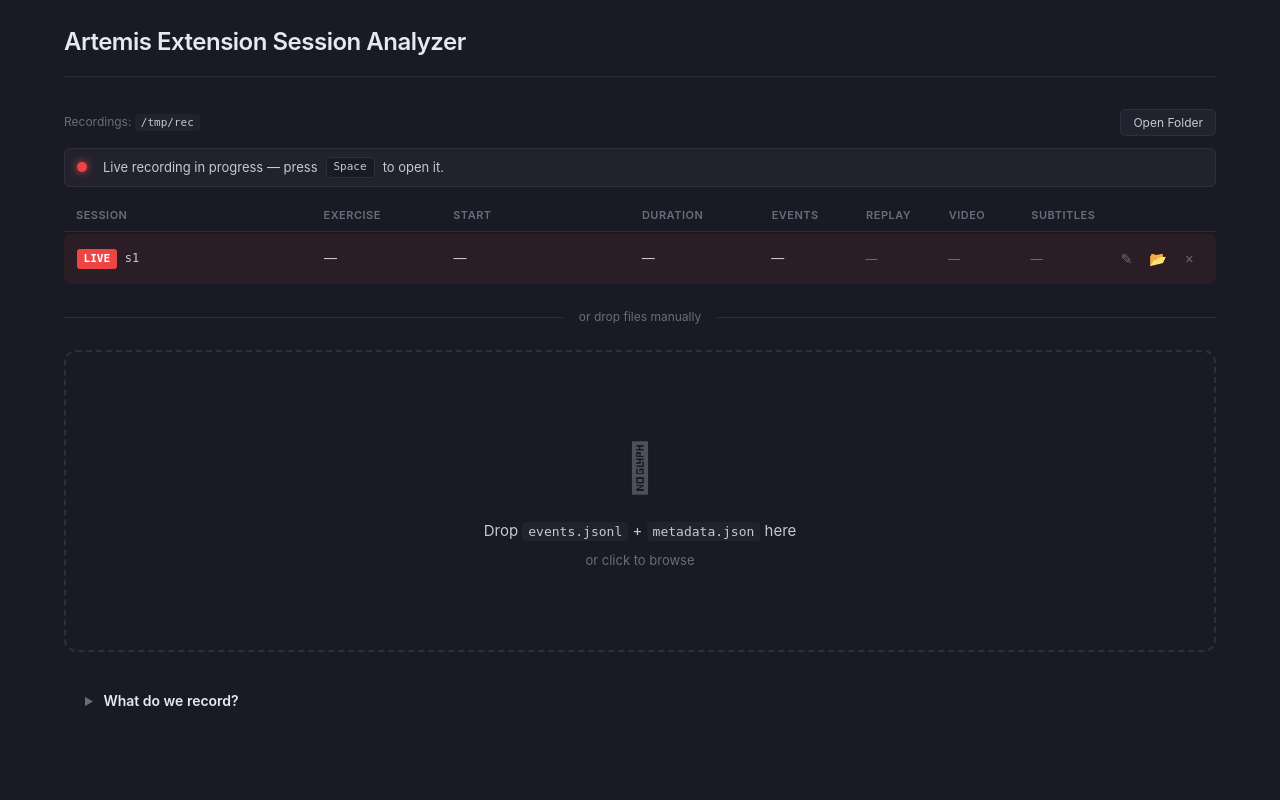
Scenario: App session transitions › opening a live session streams it and shows the live bar
Click the text "s1" at (640, 259), box 64,234 -> 1216,284
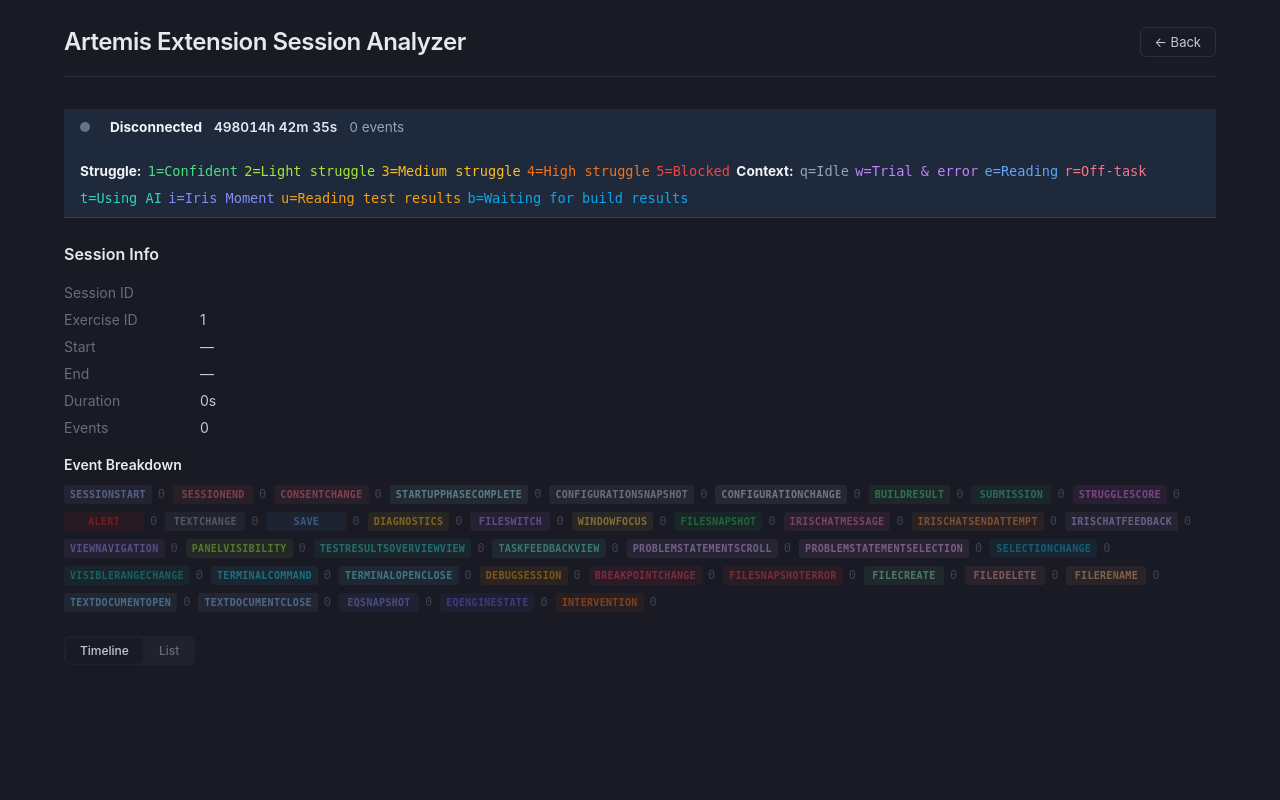
Now the element with class "live-control-bar" is shown, box 64,109 -> 1216,218
